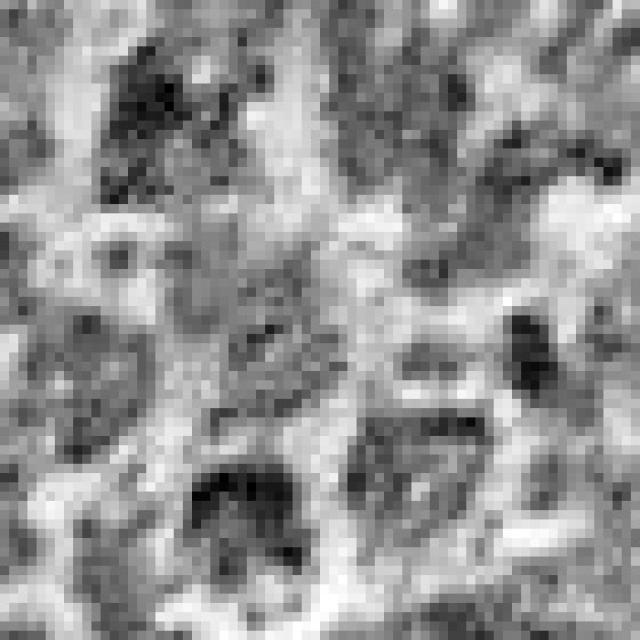inner: (152, 213, 346, 445)
lobe: (401, 111, 569, 302), (166, 455, 327, 631), (90, 45, 256, 212), (319, 41, 475, 214), (347, 397, 503, 548), (19, 305, 164, 467)
outer: (0, 0, 630, 640)
